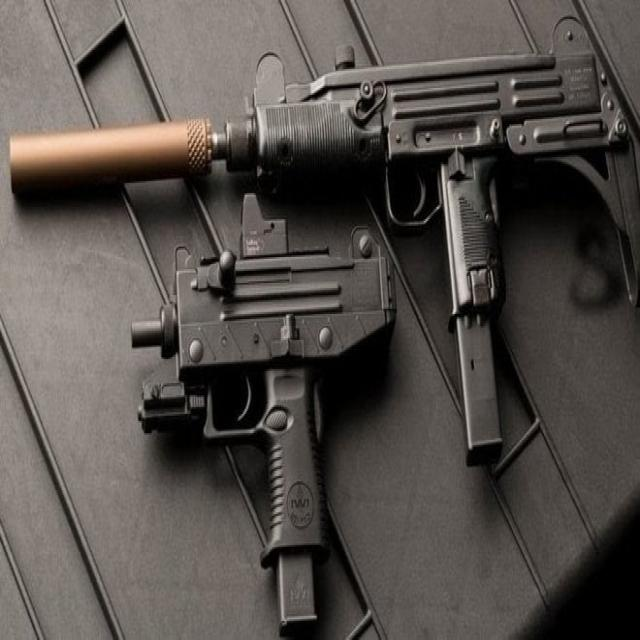SMG: (9, 19, 640, 476), (131, 219, 394, 640)
